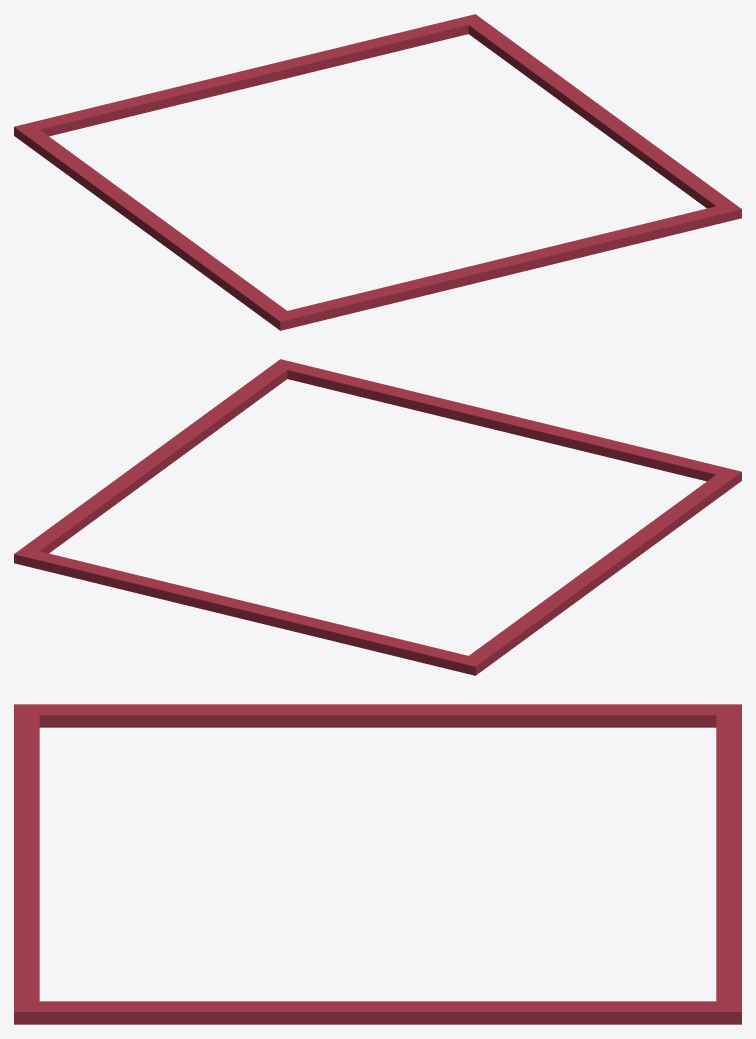
File: frame-skin-3.glb
3 views of the same model, one above another, from view 1: azimuth 30°, elevation 25°; view 2: azimuth 150°, elevation 25°; view 3: azimuth 270°, elevation 25° (orthographic). The views are drawn at different scales.
Parts seen in each view (by area): view 1: frame-skin-3; view 2: frame-skin-3; view 3: frame-skin-3.
Part boxes in pixels (x1=…): frame-skin-3: x1=14, y1=14, x2=741, y2=330; frame-skin-3: x1=14, y1=359, x2=741, y2=675; frame-skin-3: x1=14, y1=704, x2=741, y2=1024.
Size of the model in its own units: 17 by 0.32 by 17.
1 material, 1 textured.
